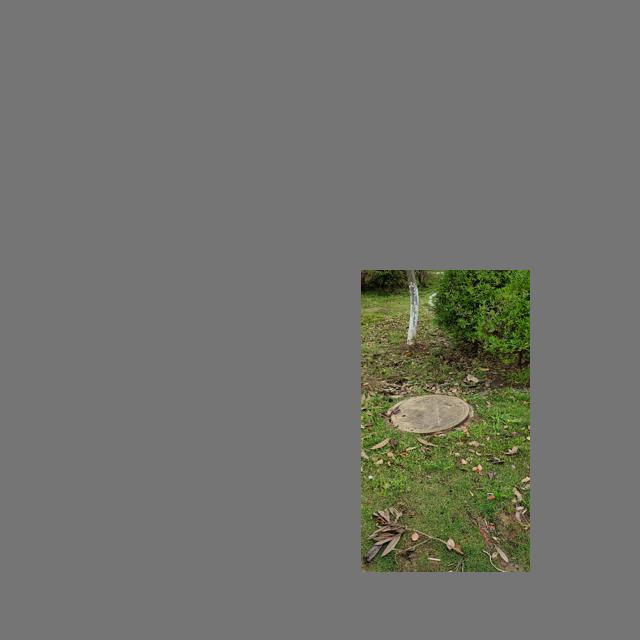uncovered: (385, 395, 474, 435)
